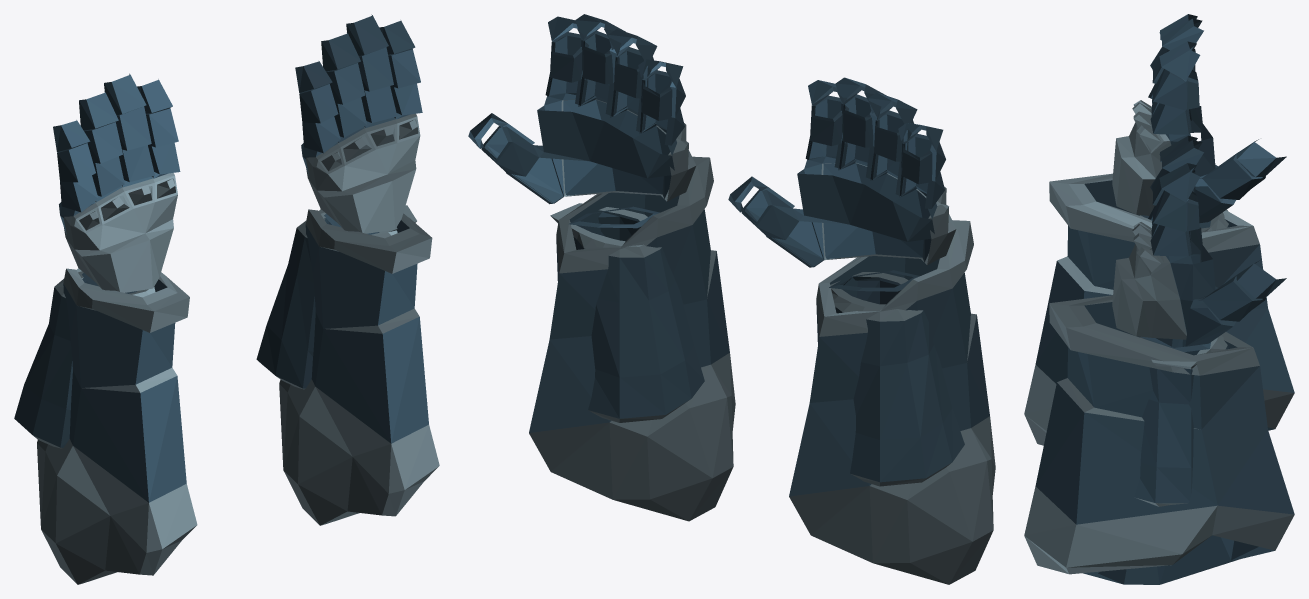
Rendered from mithril_hands.glb.
3 renders of one model, left to right at view 1: azimuth 30°, elevation 25°; view 2: azimuth 150°, elevation 25°; view 3: azimuth 270°, elevation 25°, orthographic. The views are drawn at different scales.
Visible parts, largest first — view 1: mithril_hands; view 2: mithril_hands; view 3: mithril_hands.
Boxes of the visible parts, bbox=[...] form: mithril_hands: bbox=[14, 14, 439, 584]; mithril_hands: bbox=[468, 14, 995, 584]; mithril_hands: bbox=[1024, 14, 1294, 584].
Bounding box in the file's own units: 0.951 × 1 × 0.514.
